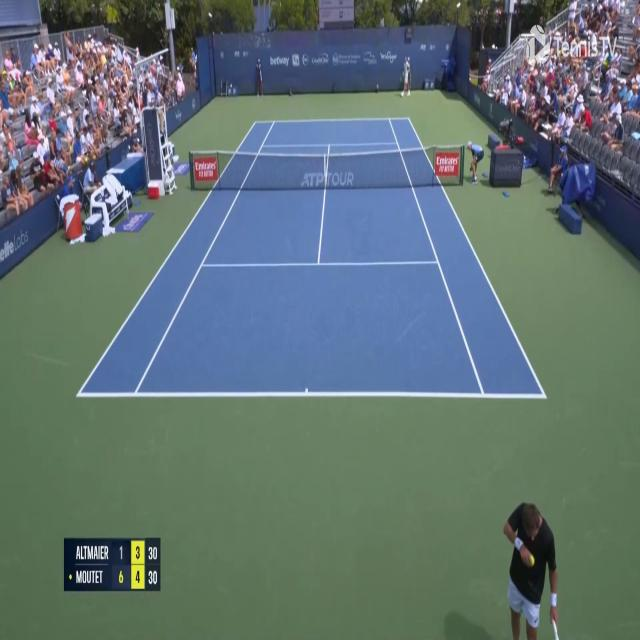tennis-player: (499, 486, 564, 640), (397, 54, 413, 100)
